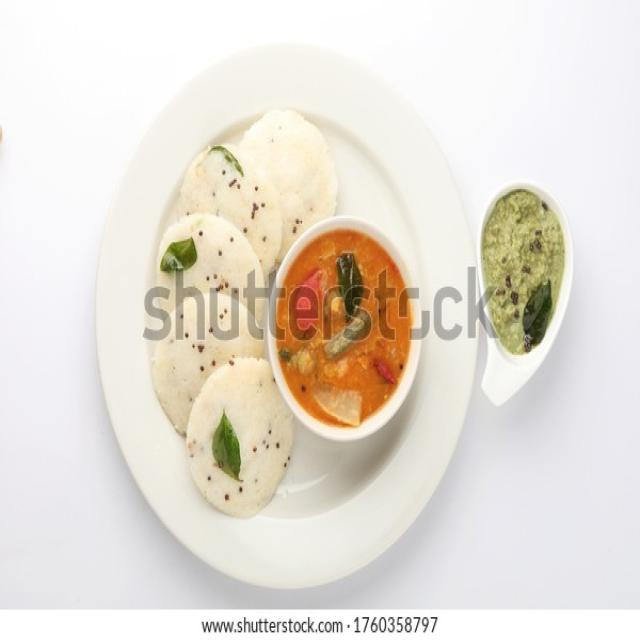IDLI: (153, 212, 263, 436), (187, 358, 292, 517), (239, 111, 337, 259), (180, 155, 282, 273)
